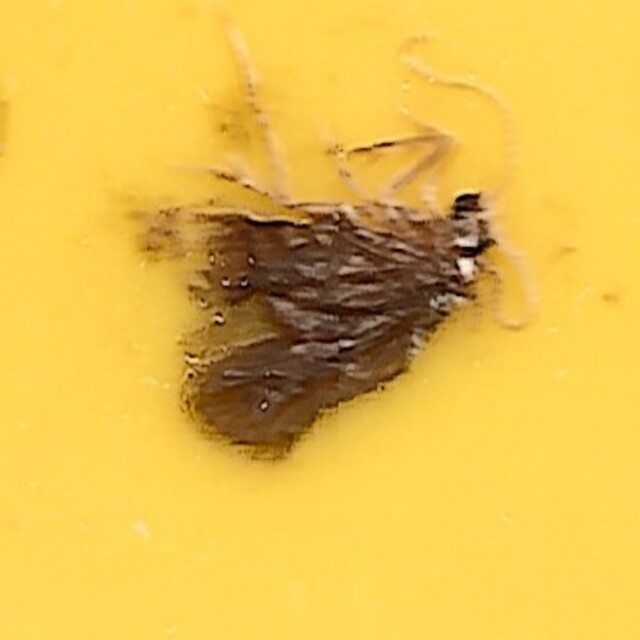Trichoptera: (144, 176, 496, 464)
